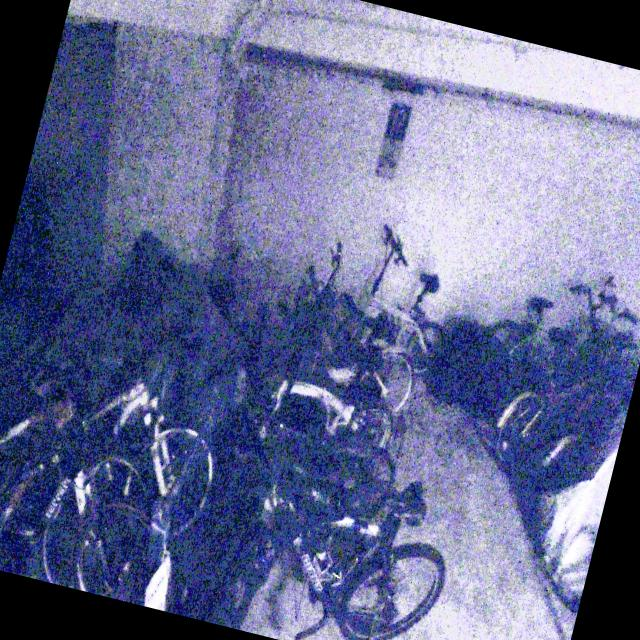bike: (0, 333, 235, 559), (209, 440, 465, 640), (268, 232, 444, 424), (466, 254, 639, 426), (333, 220, 468, 380)
